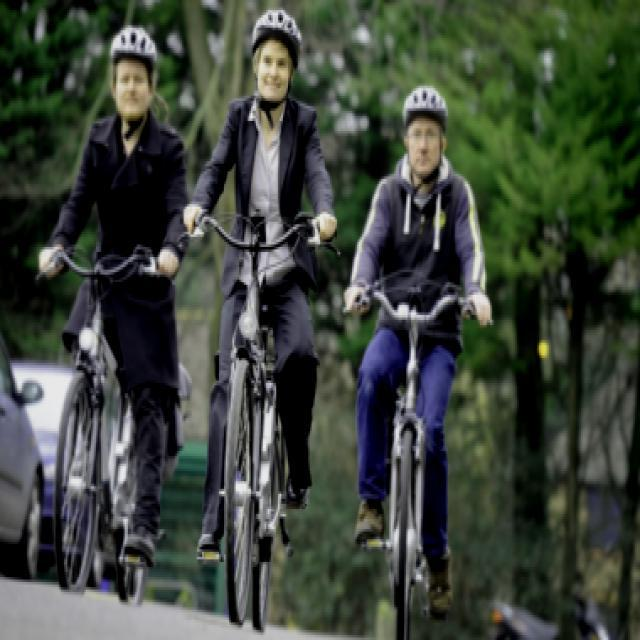Helmet: (102, 25, 162, 116), (398, 80, 450, 174), (251, 5, 303, 98)
